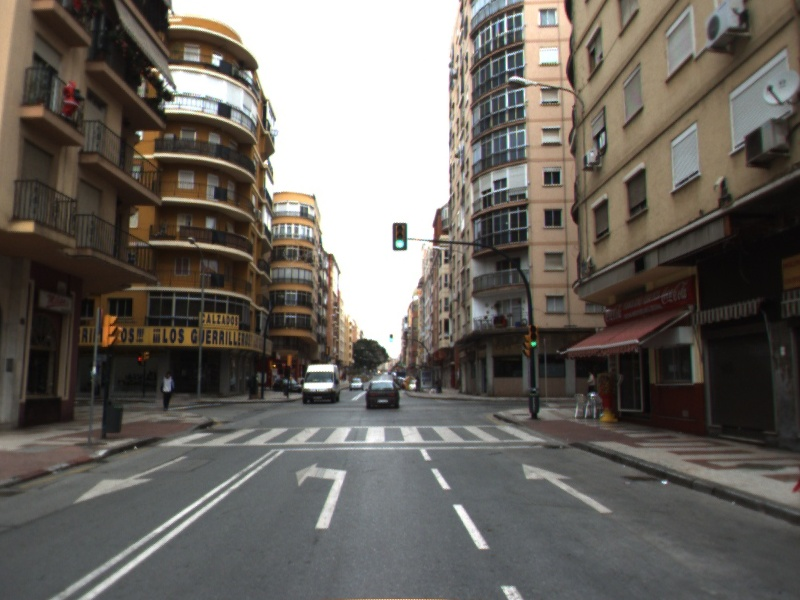LEFT: (294, 461, 348, 530)
STRAIGHT: (521, 462, 615, 515)
